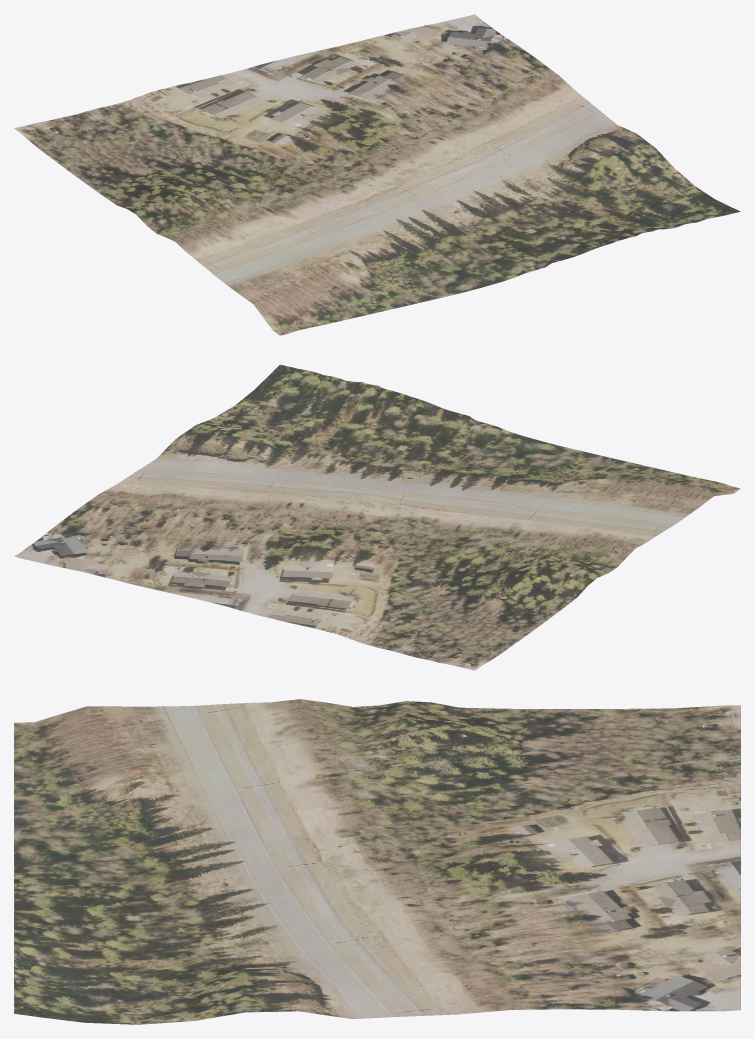
The model's file is CM_Terrain_24492916_6814469.fbx.
3 views of the same model, one above another, from view 1: azimuth 30°, elevation 25°; view 2: azimuth 150°, elevation 25°; view 3: azimuth 270°, elevation 25° (orthographic). The views are drawn at different scales.
Parts seen in each view (by area): view 1: CM_Terrain_24492916_6814469_LOD0; view 2: CM_Terrain_24492916_6814469_LOD0; view 3: CM_Terrain_24492916_6814469_LOD0.
Part boxes in pixels (bbox=[...]): CM_Terrain_24492916_6814469_LOD0: bbox=[14, 14, 740, 335]; CM_Terrain_24492916_6814469_LOD0: bbox=[14, 364, 740, 670]; CM_Terrain_24492916_6814469_LOD0: bbox=[14, 699, 740, 1024].
Size of what is drawn, in the model's own units: 205 by 9.91 by 205.
